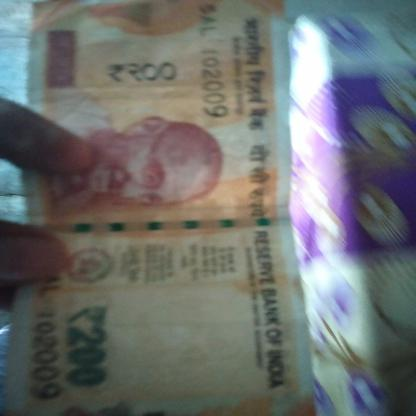New200Front: (27, 5, 280, 415)
